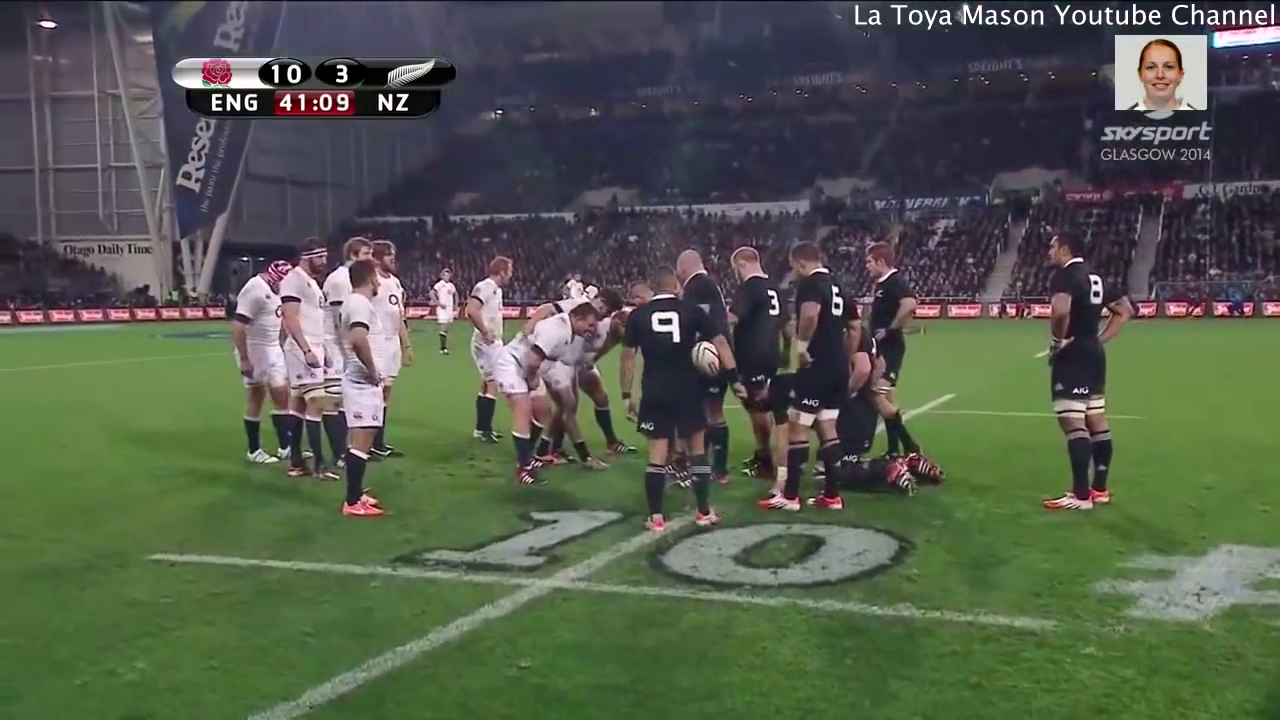10_metre: (129, 492, 1066, 720), (716, 387, 1149, 448)
player: (610, 260, 739, 535), (1016, 225, 1122, 524), (753, 226, 851, 527), (321, 251, 413, 532), (489, 305, 601, 491), (212, 236, 302, 467), (273, 233, 339, 478), (712, 232, 785, 444), (451, 243, 513, 456), (849, 237, 921, 414), (652, 236, 747, 367), (367, 226, 417, 405), (314, 224, 376, 360), (516, 286, 630, 341), (419, 259, 458, 368)
